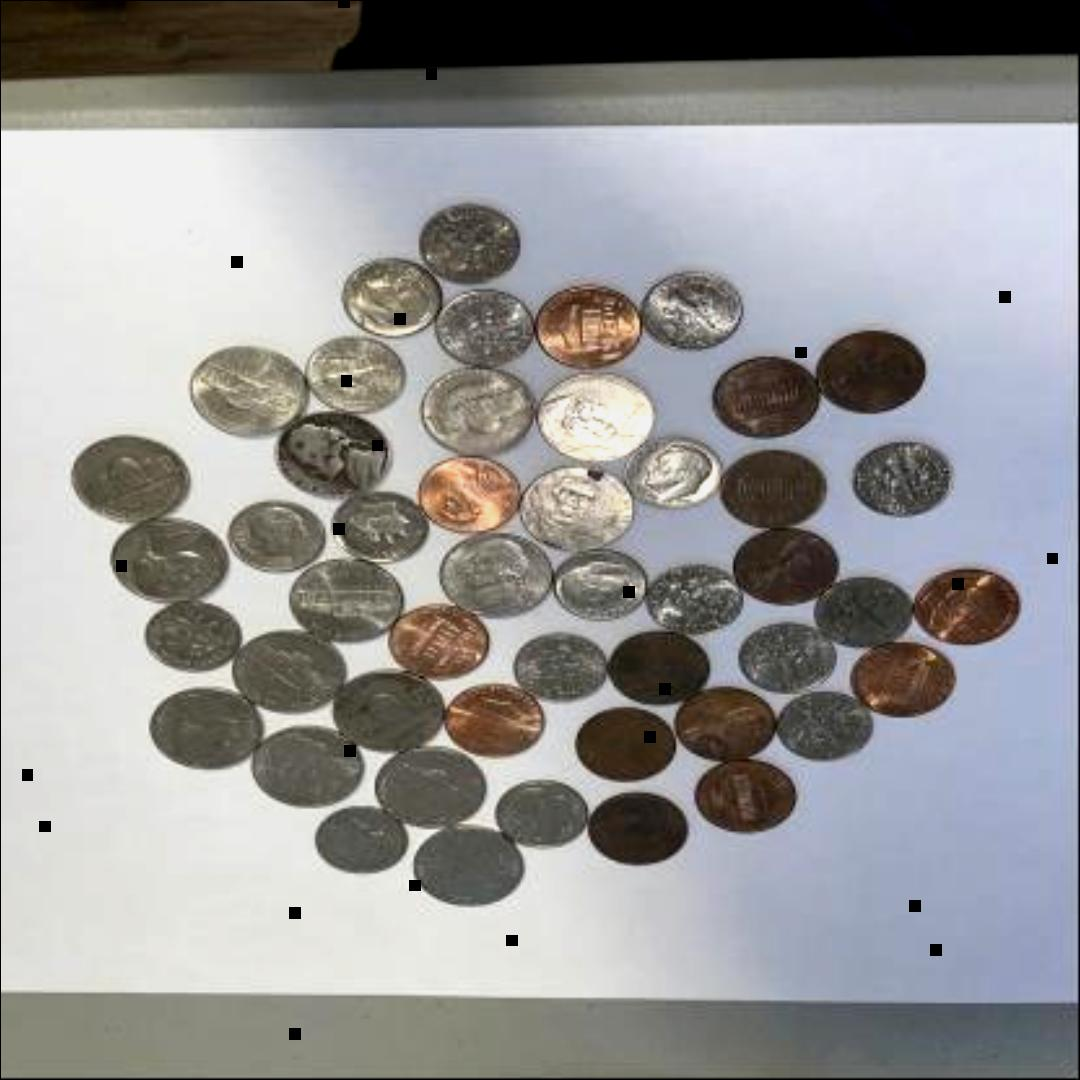Dime: (416, 202, 522, 288), (642, 268, 744, 352), (338, 260, 447, 338), (223, 496, 329, 576), (307, 338, 413, 414), (432, 288, 532, 368), (854, 444, 956, 522), (507, 631, 610, 708), (620, 434, 724, 510), (734, 620, 836, 697), (550, 546, 652, 622), (650, 559, 750, 636), (140, 598, 241, 672), (776, 694, 872, 768), (815, 579, 911, 651), (335, 494, 428, 568), (316, 810, 410, 878), (498, 780, 588, 848)
Nickel: (187, 343, 311, 439), (538, 369, 656, 465), (418, 368, 538, 462), (231, 628, 347, 722), (289, 556, 405, 648), (272, 413, 392, 501), (111, 522, 230, 610), (330, 670, 448, 758), (522, 465, 636, 553), (374, 748, 488, 834), (75, 437, 187, 524), (413, 826, 527, 909), (441, 538, 555, 620), (250, 730, 366, 810), (150, 687, 260, 767)
Penny: (815, 324, 926, 418), (532, 288, 646, 374), (600, 629, 716, 709), (730, 528, 840, 611), (414, 457, 524, 540), (914, 569, 1028, 649), (717, 452, 831, 532), (712, 360, 820, 444), (846, 644, 960, 722), (577, 706, 683, 784), (680, 686, 782, 766), (588, 792, 690, 870), (696, 764, 802, 836), (446, 688, 548, 760), (395, 608, 491, 684)
